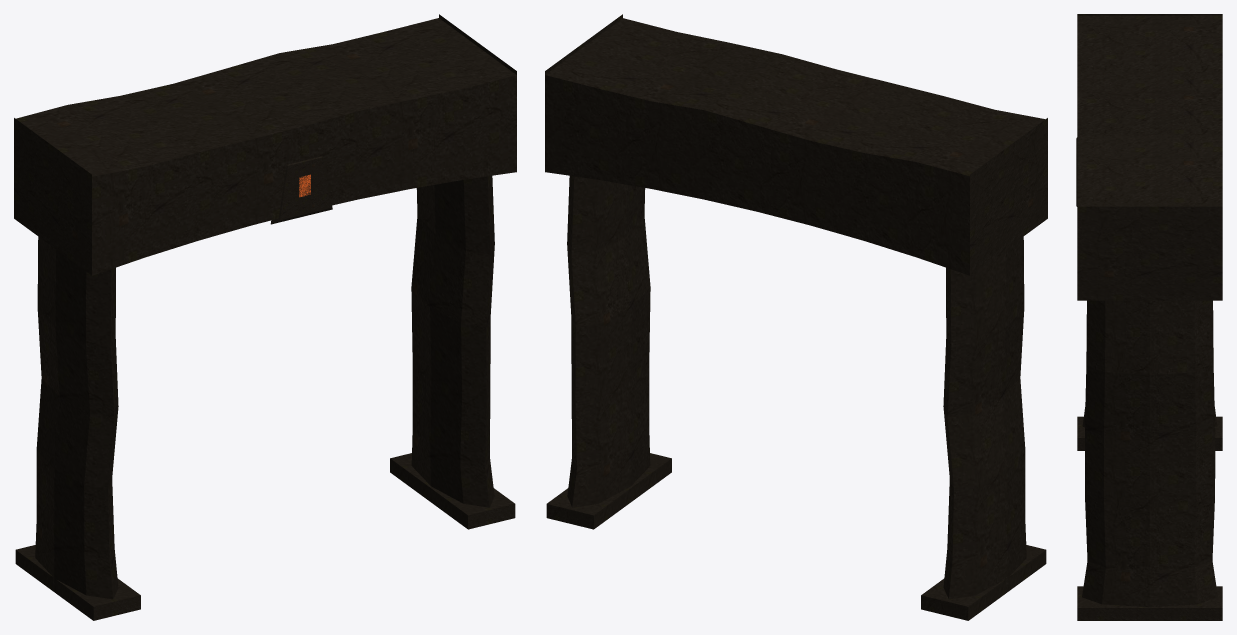
The model's file is dungeon_gate_44_lava.glb.
3 renders of one model, left to right at view 1: azimuth 30°, elevation 25°; view 2: azimuth 150°, elevation 25°; view 3: azimuth 270°, elevation 25°, orthographic. The views are drawn at different scales.
Parts seen in each view (by area): view 1: dungeon_gate_44_lava; view 2: dungeon_gate_44_lava; view 3: dungeon_gate_44_lava.
Part boxes in pixels (left/top/right/bottom): dungeon_gate_44_lava: left=14, top=14, right=516, bottom=620; dungeon_gate_44_lava: left=545, top=14, right=1047, bottom=620; dungeon_gate_44_lava: left=1076, top=14, right=1222, bottom=620.
Bounding box in the file's own units: 4.4 × 4.42 × 1.41.
2 materials, 2 textured.
